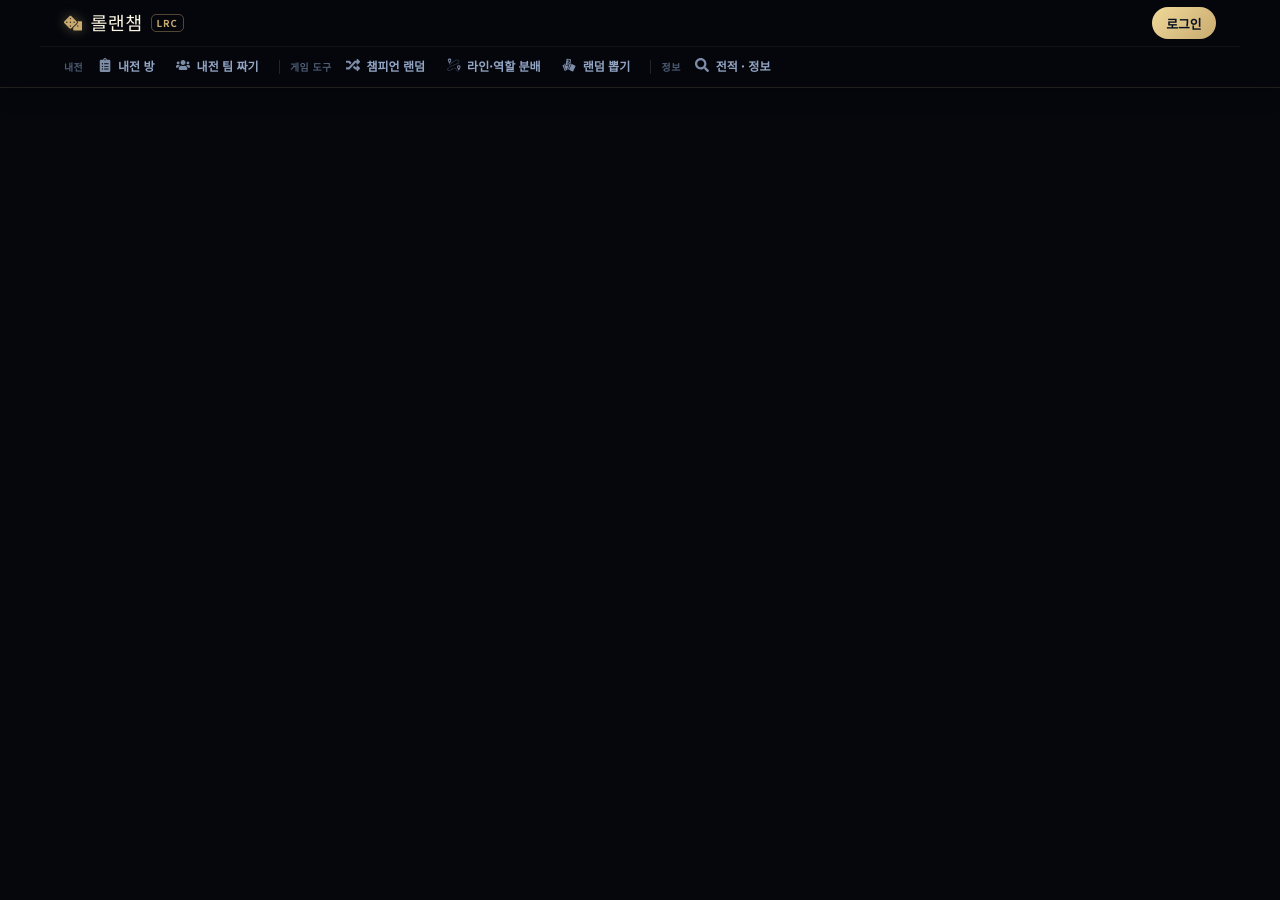
Test case: 로그아웃 상태면 로그인 버튼이 뜨고, 누르면 모달이 열린다
Click the button with class "login-btn": (1184, 23) [1152,7,1216,39]
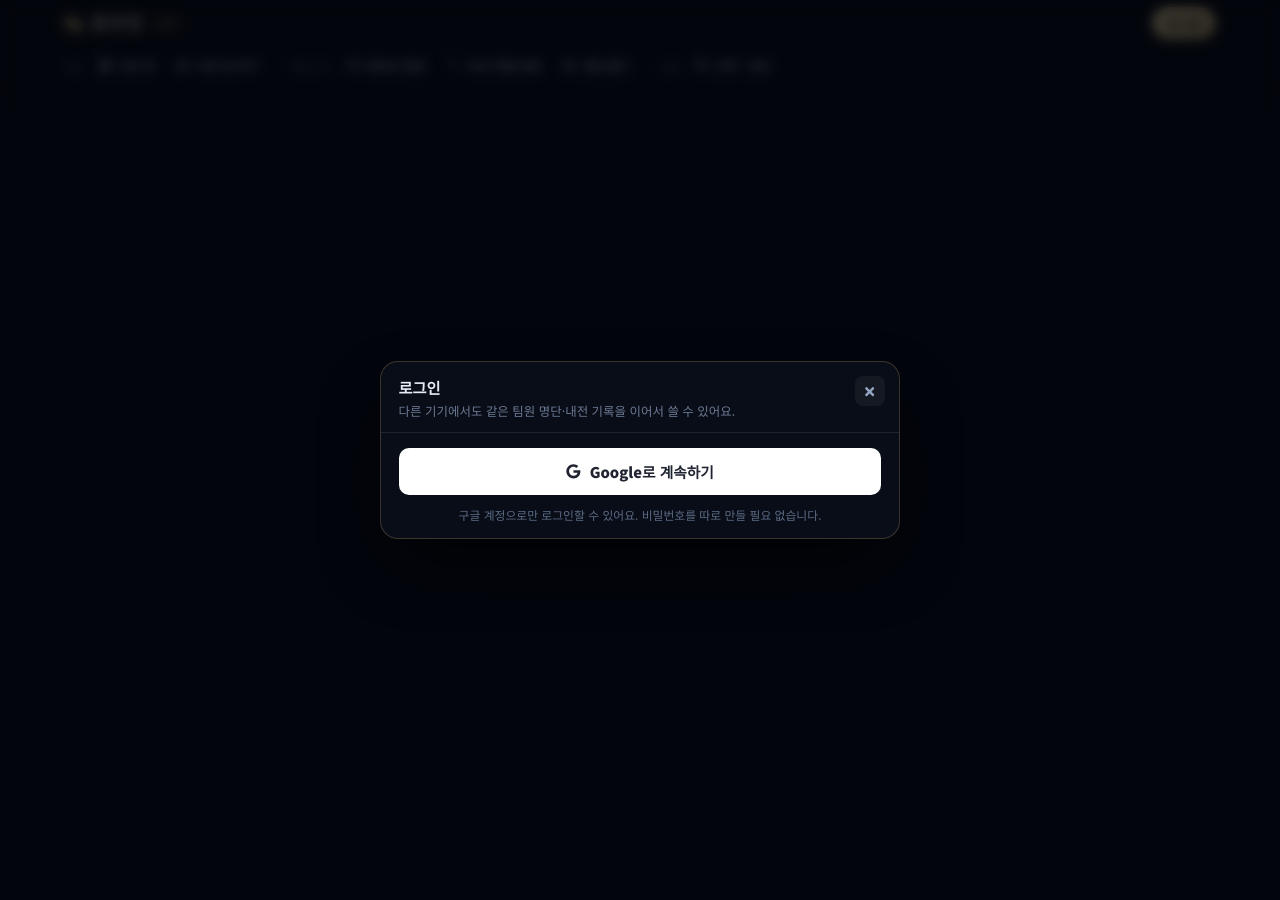
Expected: the element with class "modal-backdrop" is shown
